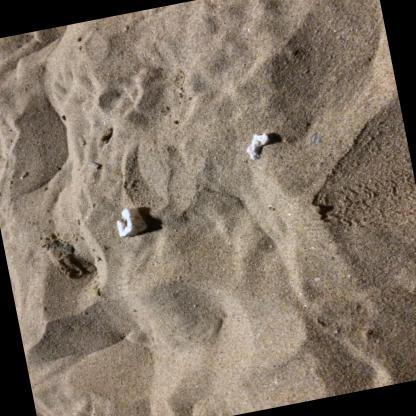Waste: (116, 206, 146, 236), (246, 131, 269, 158)
